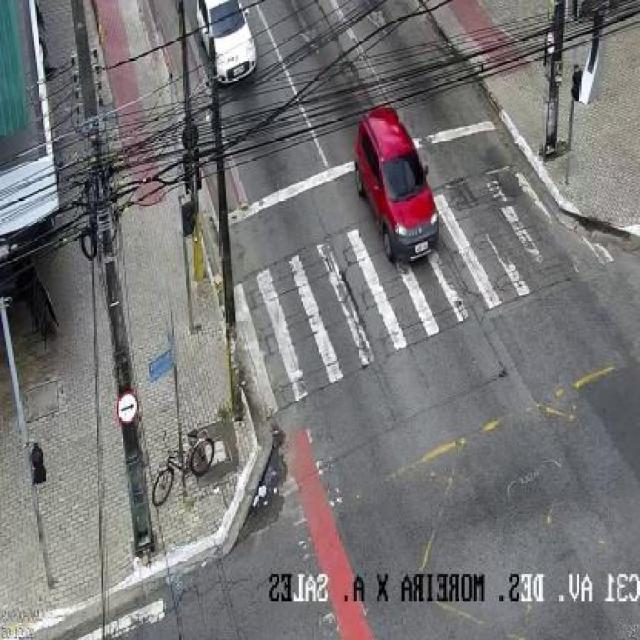Car: (356, 104, 440, 263), (196, 0, 258, 86)
Cycle: (149, 432, 218, 505)
